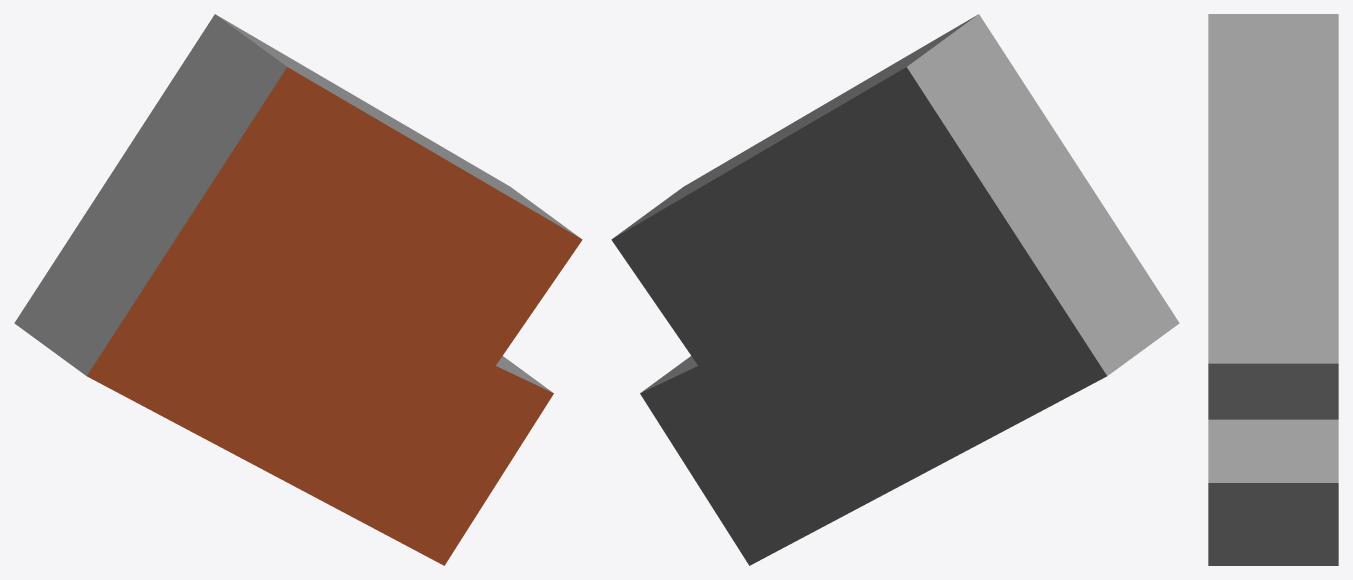
Rendered from construction_4917_assumed_A_Casa_h6m.obj.
The picture shows the model from 3 angles, left to right: view 1: azimuth 30°, elevation 25°; view 2: azimuth 150°, elevation 25°; view 3: azimuth 270°, elevation 25°; orthographic projection. The views are drawn at different scales.
Visible parts, largest first — view 1: construction_4917_assumed_A_Casa; view 2: construction_4917_assumed_A_Casa; view 3: construction_4917_assumed_A_Casa.
Part boxes in pixels (x1,y1,x2,y2): construction_4917_assumed_A_Casa: (14,14,582,565); construction_4917_assumed_A_Casa: (611,14,1179,565); construction_4917_assumed_A_Casa: (1208,14,1338,565).
Bounding box in the file's own units: 23.75 × 24.59 × 6.
